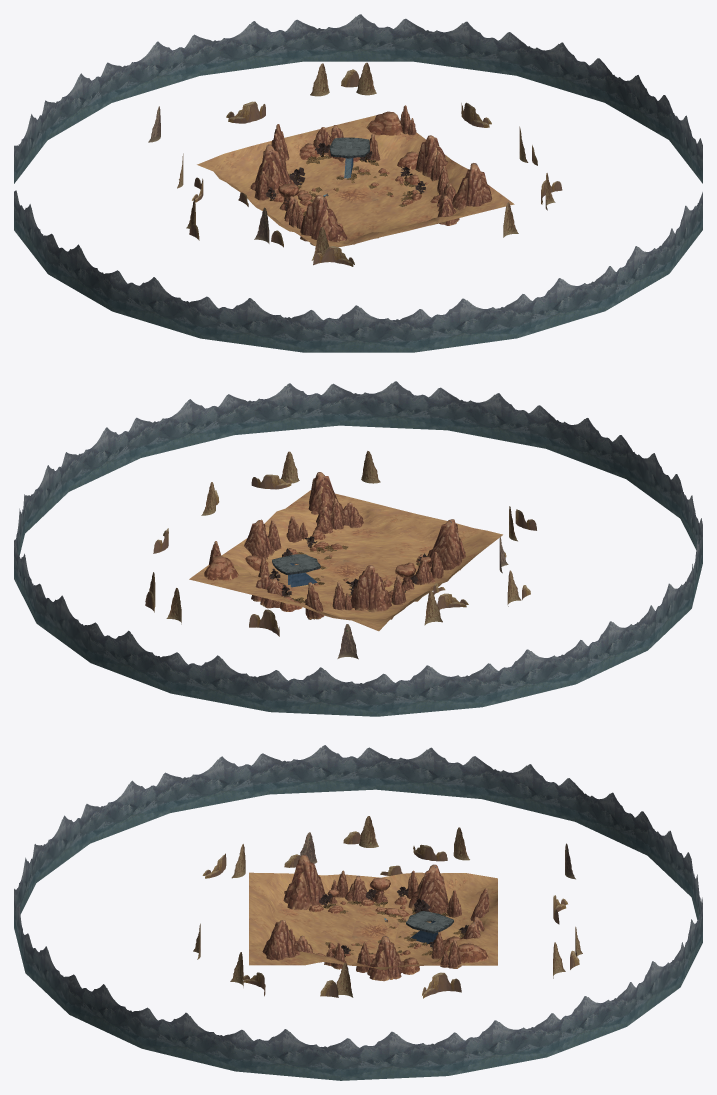
File: stage.glb
3 views of the same model, one above another, from view 1: azimuth 30°, elevation 25°; view 2: azimuth 150°, elevation 25°; view 3: azimuth 270°, elevation 25° (orthographic).
Visible parts, largest first — view 1: KORE_export_5_background_1_0_0, KORE_export_5_ground_1_0_0, KORE_export_5_stones_1_0_0, KORE_export_5_background2_1_0_0, KORE_export_7_plants_1_0_0, KORE_export_7_GroundDecal_1_0_0; view 2: KORE_export_5_background_1_0_0, KORE_export_5_ground_1_0_0, KORE_export_5_stones_1_0_0, KORE_export_5_background2_1_0_0, KORE_export_7_plants_1_0_0, KORE_export_7_GroundDecal_1_0_0; view 3: KORE_export_5_background_1_0_0, KORE_export_5_ground_1_0_0, KORE_export_5_stones_1_0_0, KORE_export_5_background2_1_0_0, KORE_export_7_plants_1_0_0, KORE_export_7_GroundDecal_1_0_0.
Boxes of the visible parts, x1,y1,x2,y2 form: KORE_export_5_background_1_0_0: (14, 14, 702, 352); KORE_export_5_ground_1_0_0: (197, 115, 514, 247); KORE_export_5_stones_1_0_0: (250, 105, 491, 245); KORE_export_5_background2_1_0_0: (148, 62, 562, 266); KORE_export_7_plants_1_0_0: (265, 143, 425, 215); KORE_export_7_GroundDecal_1_0_0: (322, 183, 380, 207); KORE_export_5_background_1_0_0: (14, 381, 702, 716); KORE_export_5_ground_1_0_0: (189, 490, 502, 631); KORE_export_5_stones_1_0_0: (204, 472, 465, 619); KORE_export_5_background2_1_0_0: (145, 451, 536, 659); KORE_export_7_plants_1_0_0: (269, 536, 426, 602); KORE_export_7_GroundDecal_1_0_0: (318, 559, 378, 582); KORE_export_5_background_1_0_0: (14, 745, 702, 1080); KORE_export_5_ground_1_0_0: (249, 872, 497, 969); KORE_export_5_stones_1_0_0: (262, 854, 489, 981); KORE_export_5_background2_1_0_0: (193, 816, 582, 998); KORE_export_7_plants_1_0_0: (319, 886, 468, 956); KORE_export_7_GroundDecal_1_0_0: (351, 921, 399, 940).
Bounding box in the file's own units: 18 × 1.81 × 18.
Materials: 6 (6 with a texture image).
